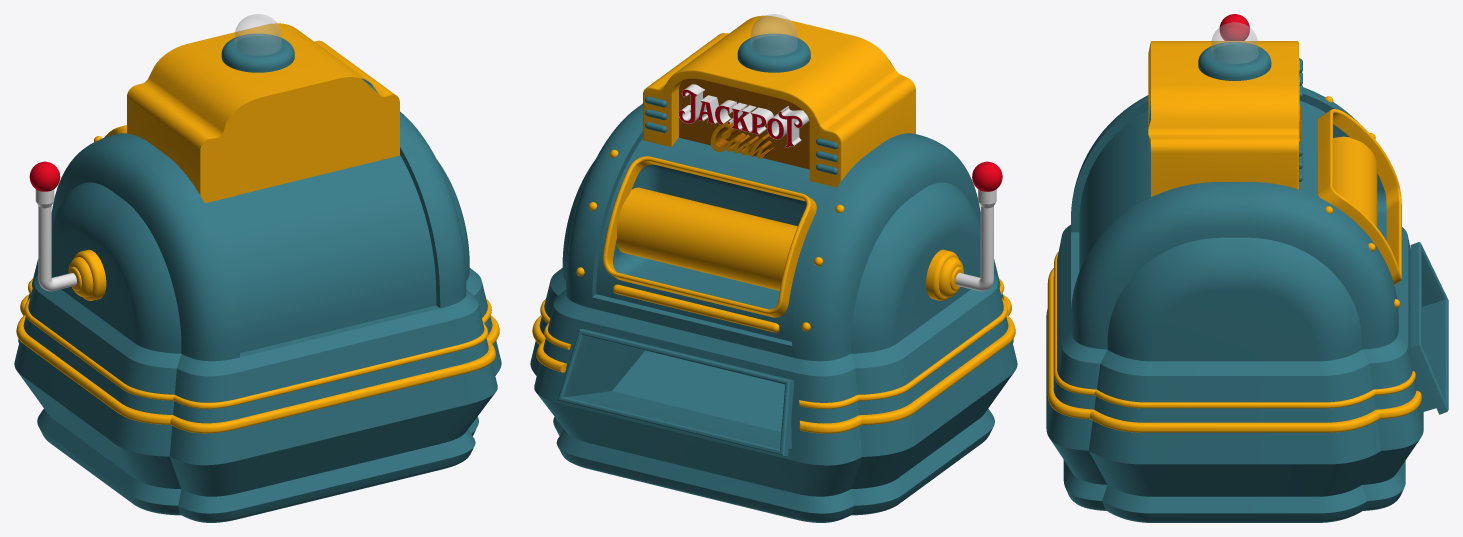
File: Machine.glb
3 renders of one model, left to right at view 1: azimuth 30°, elevation 25°; view 2: azimuth 150°, elevation 25°; view 3: azimuth 270°, elevation 25°, orthographic.
Visible parts, largest first — view 1: Cube.002, Cylinder.007; view 2: Cube.002, Cylinder.007; view 3: Cube.002, Cylinder.007.
Part boxes in pixels (left/top/right/bottom): Cube.002: left=14, top=14, right=501, bottom=522; Cylinder.007: left=29, top=161, right=76, bottom=291; Cube.002: left=530, top=14, right=1017, bottom=522; Cylinder.007: left=955, top=161, right=1002, bottom=291; Cube.002: left=1046, top=22, right=1448, bottom=522; Cylinder.007: left=1219, top=14, right=1249, bottom=40.
Size of the model in its own units: 2.01 by 1.94 by 1.69.
